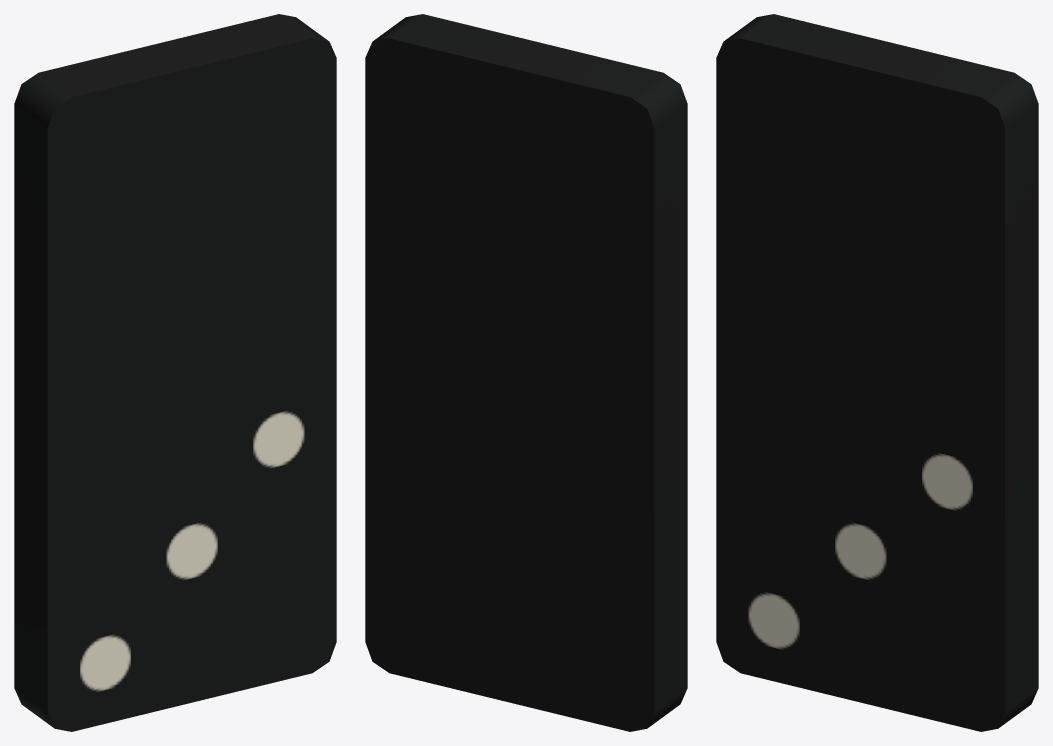
The picture shows the model from 3 angles, left to right: view 1: azimuth 30°, elevation 25°; view 2: azimuth 150°, elevation 25°; view 3: azimuth 330°, elevation 25°; orthographic projection.
Visible parts, largest first — view 1: domino_low_03; view 2: domino_low_03; view 3: domino_low_03.
Part boxes in pixels (left/top/right/bottom): domino_low_03: left=14, top=14, right=336, bottom=731; domino_low_03: left=365, top=14, right=687, bottom=731; domino_low_03: left=716, top=14, right=1038, bottom=731.
Size of the model in its own units: 2 by 4.2 by 0.4.
